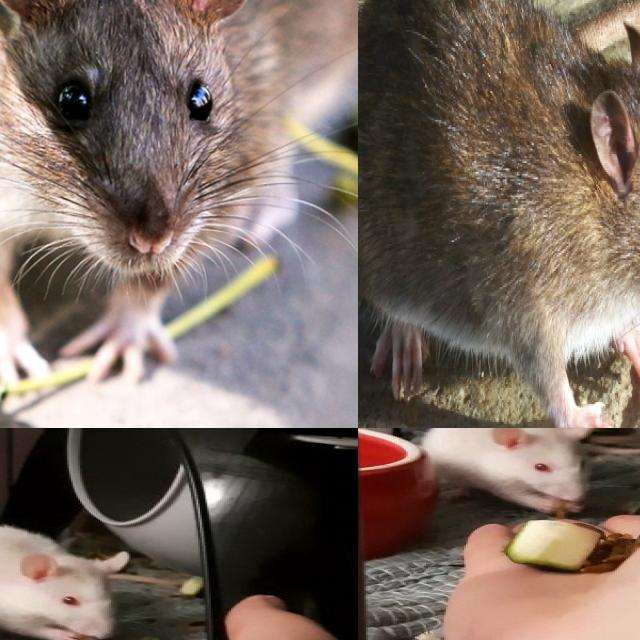rat: (358, 0, 640, 428), (0, 0, 265, 347), (0, 524, 136, 640), (422, 428, 601, 516)
